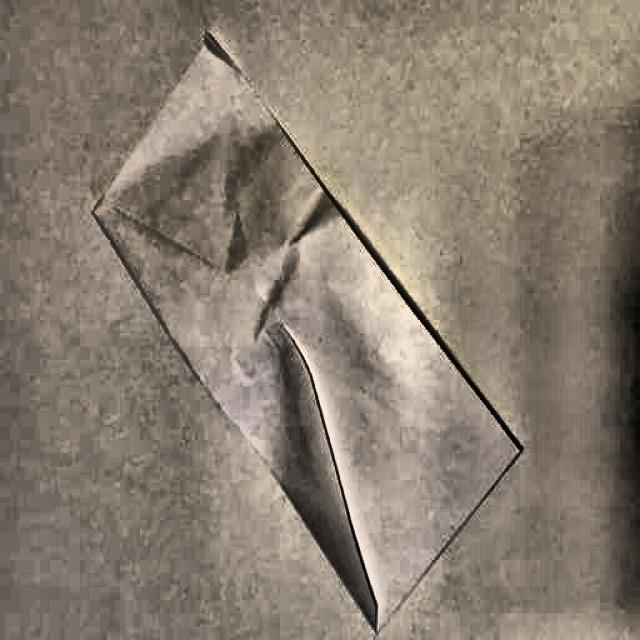paper: (90, 29, 524, 638)
